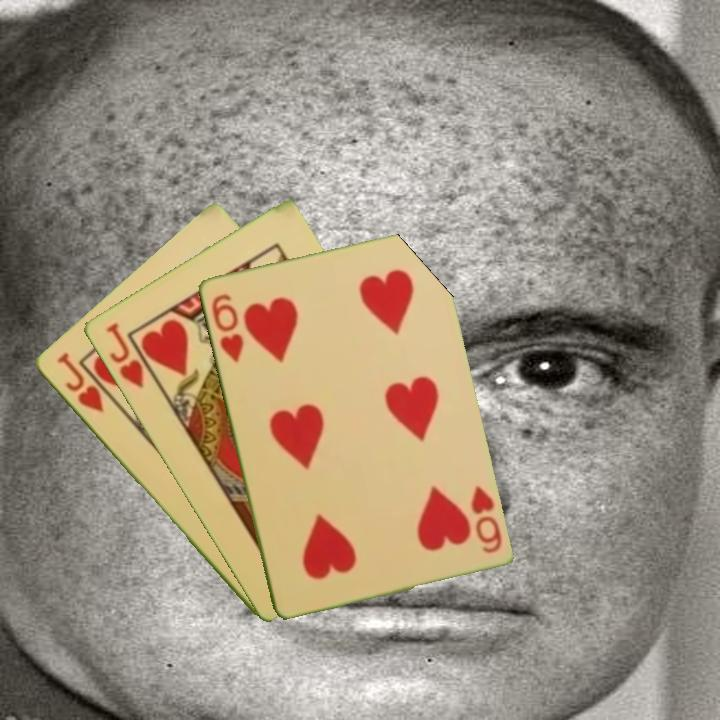6h: (207, 289, 246, 365), (466, 482, 504, 556)
Jh: (101, 319, 160, 392), (52, 348, 106, 415)
